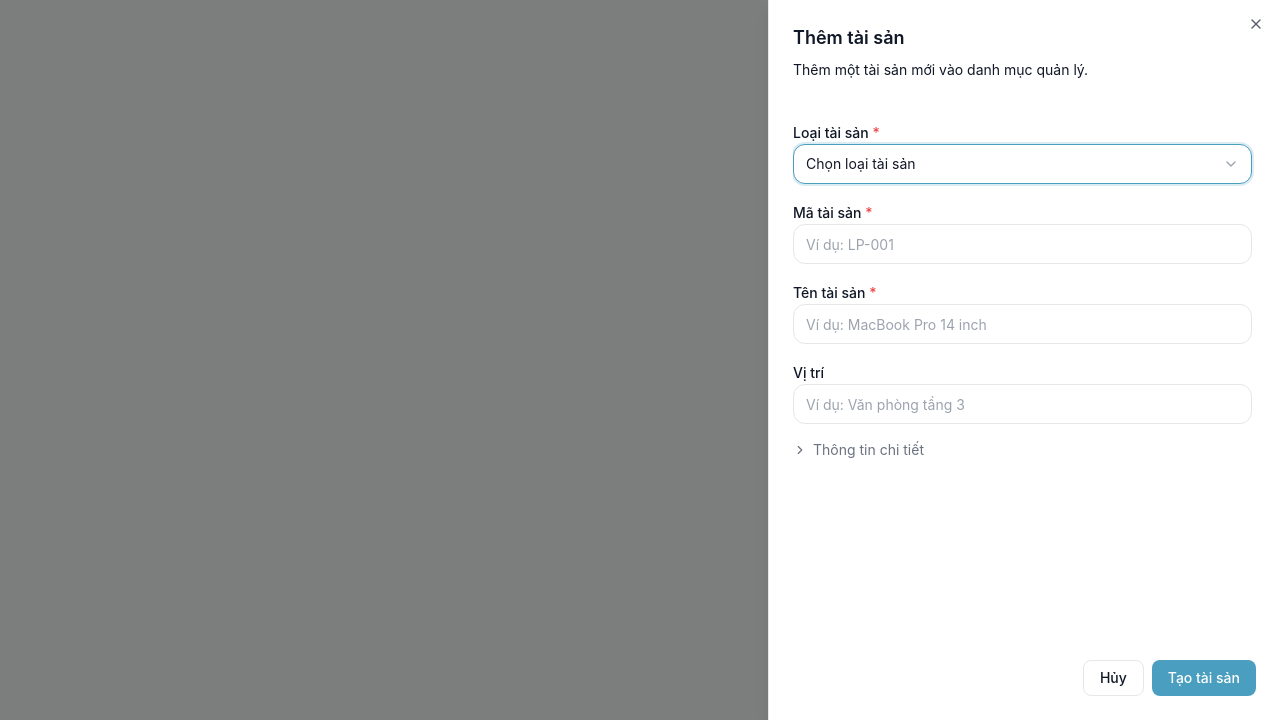
AssetFormSheet validation › rejects an asset code with invalid characters
The width and height of the screenshot is (1280, 720).
Type "lower case!" into the field labelled "Mã tài sản *" at x=1022, y=244, box [793,224,1252,264]
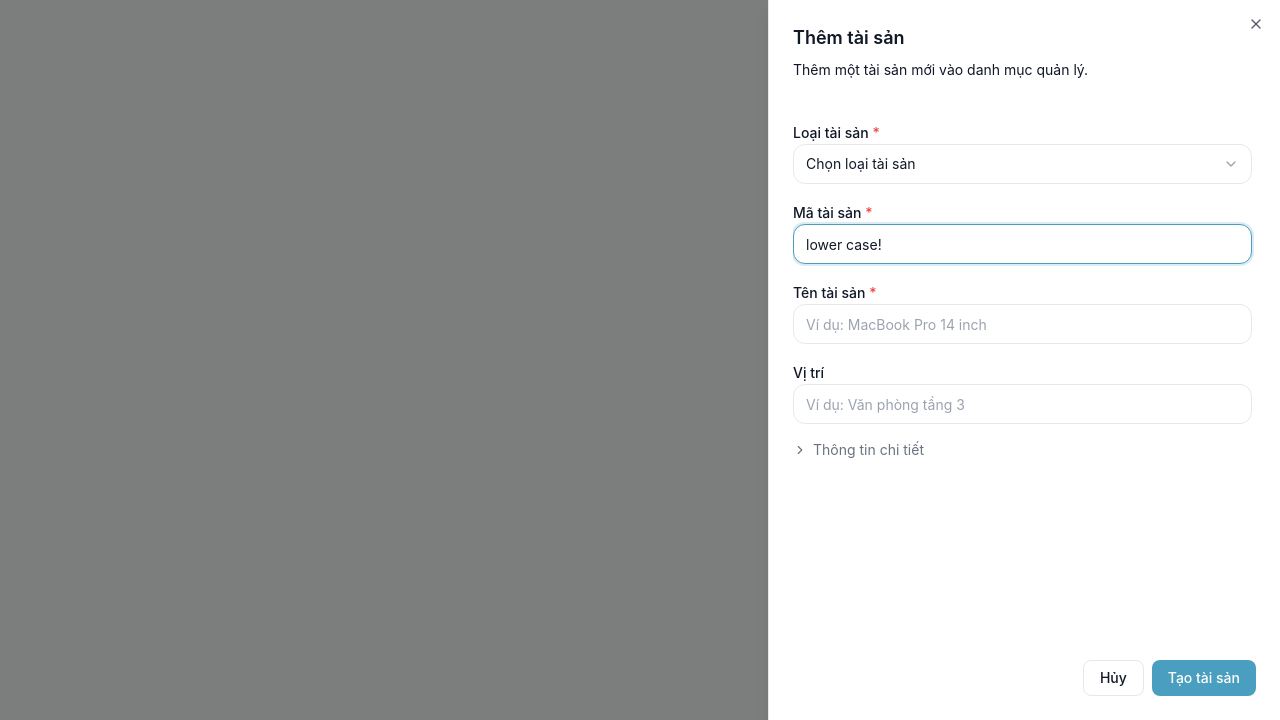
Type "MacBook" into the field labelled "Tên tài sản *" at x=1022, y=324, box [793,304,1252,344]
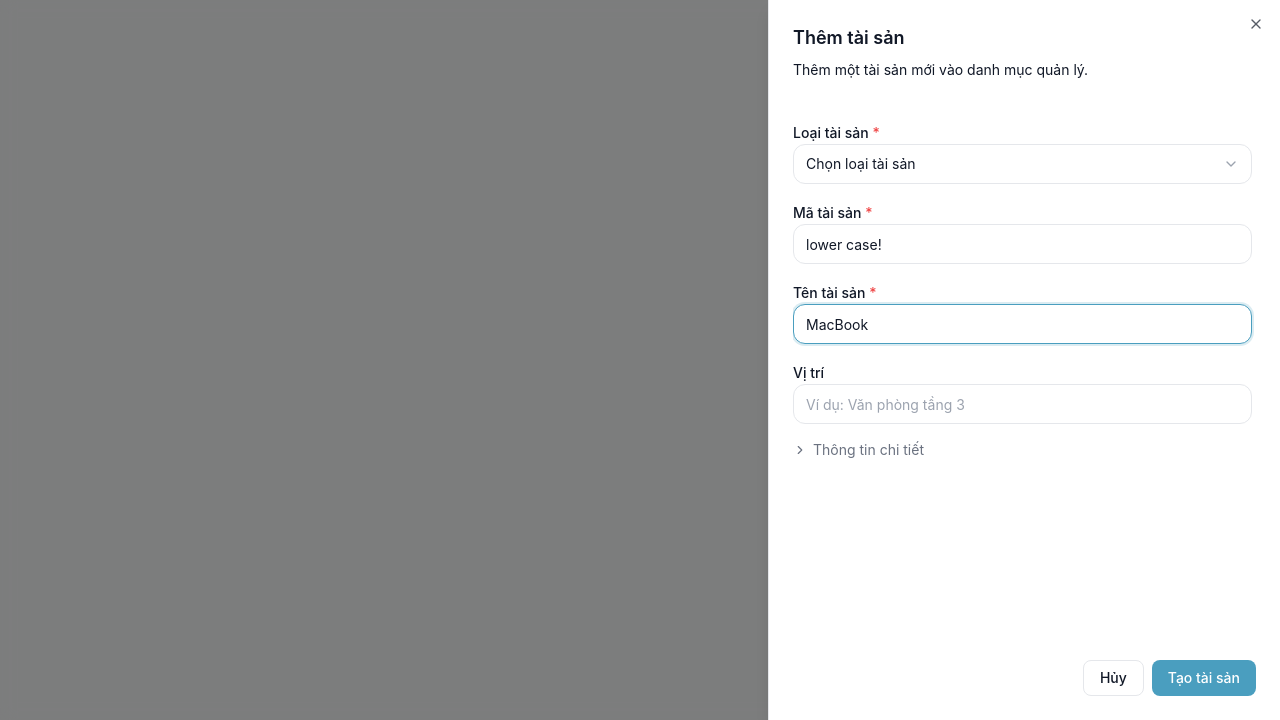
Click the button "Tạo tài sản" at x=1204, y=678, box [1152,660,1256,696]
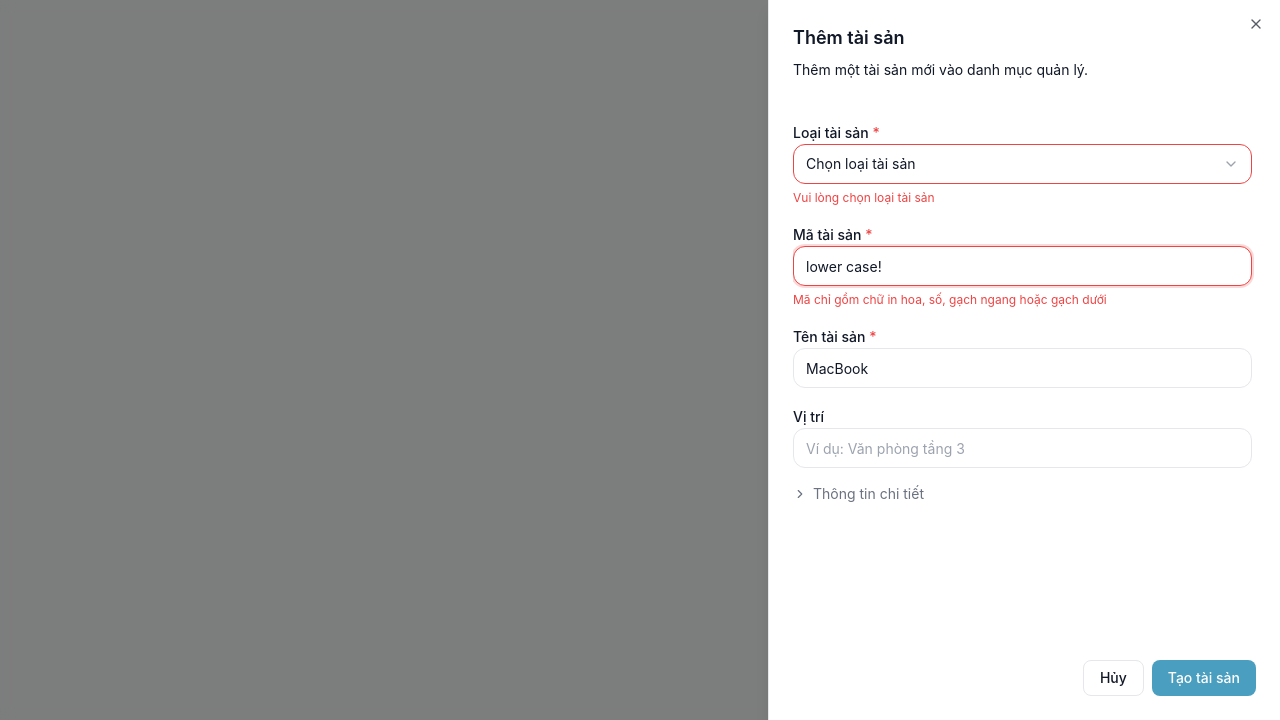
Expected: the text "Mã chỉ gồm chữ in hoa, số, gạch ngang hoặc gạch dưới" is shown, [793,292,1107,307]
